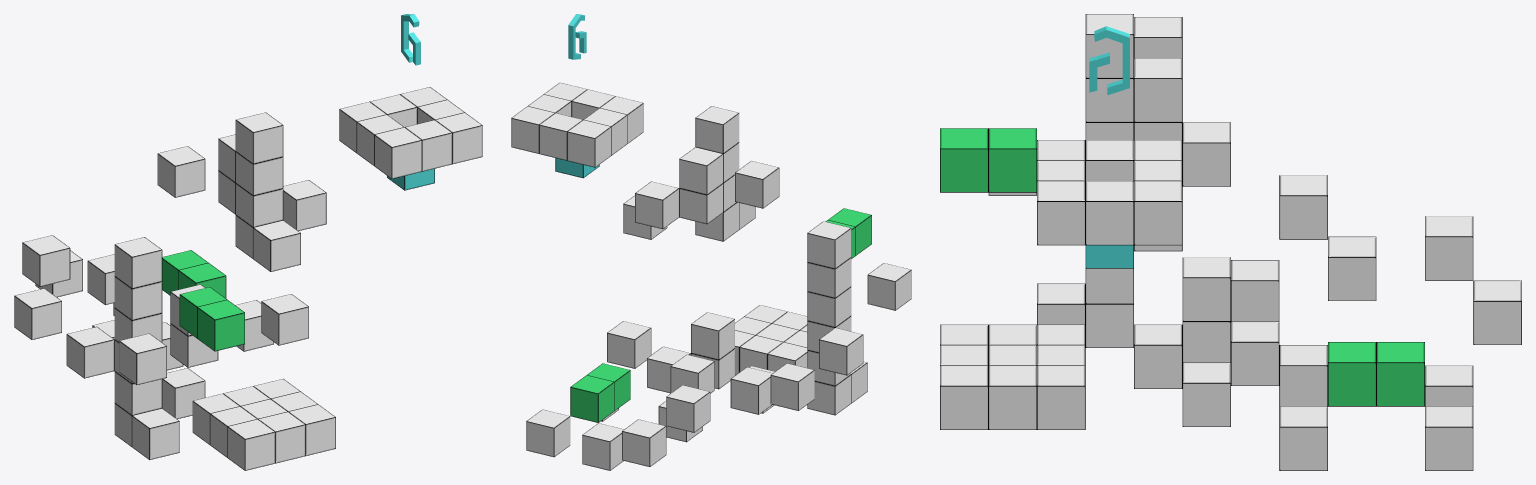
File: stageSym01.fbx
3 renders of one model, left to right at view 1: azimuth 30°, elevation 25°; view 2: azimuth 150°, elevation 25°; view 3: azimuth 270°, elevation 25°, orthographic. The views are drawn at different scales.
Parts seen in each view (by area): view 1: polySurface166; view 2: polySurface166; view 3: polySurface166.
Boxes of the visible parts, x1=… form: polySurface166: x1=14, y1=14, x2=482, y2=470; polySurface166: x1=511, y1=14, x2=911, y2=470; polySurface166: x1=940, y1=14, x2=1521, y2=470.
Bounding box in the file's own units: 12 × 11.25 × 12.
4 materials, 4 textured.
